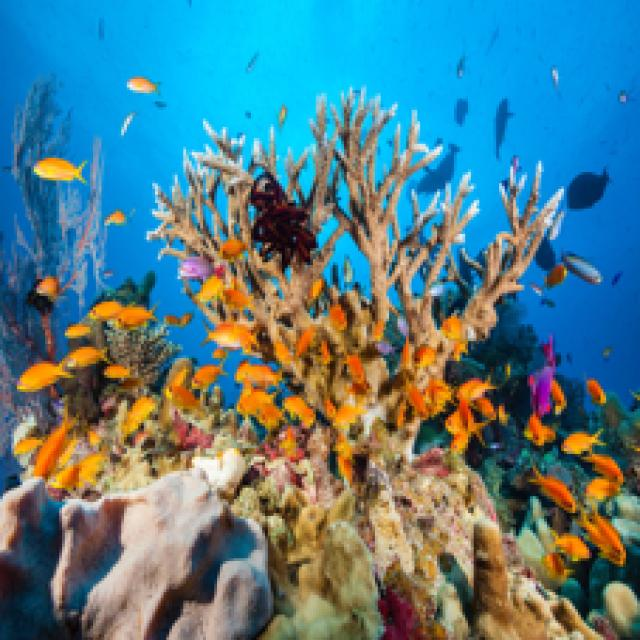Healthy: (150, 91, 562, 458), (235, 449, 571, 638)
